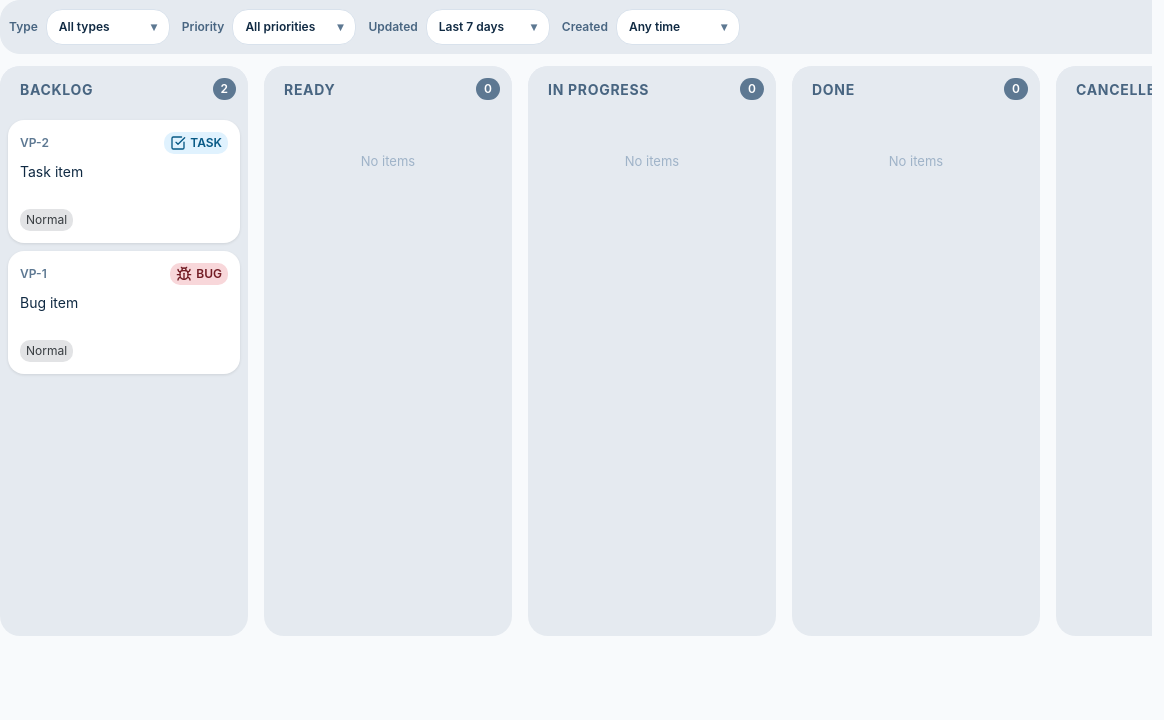
Test: KanbanBoard › board filters › filters cards by type
Check: the text "Bug item" is shown, box top-left (20, 294), bottom-right (78, 311)
Click the button with aria-label "Type:" at [108, 27], box top-left (46, 9), bottom-right (170, 45)
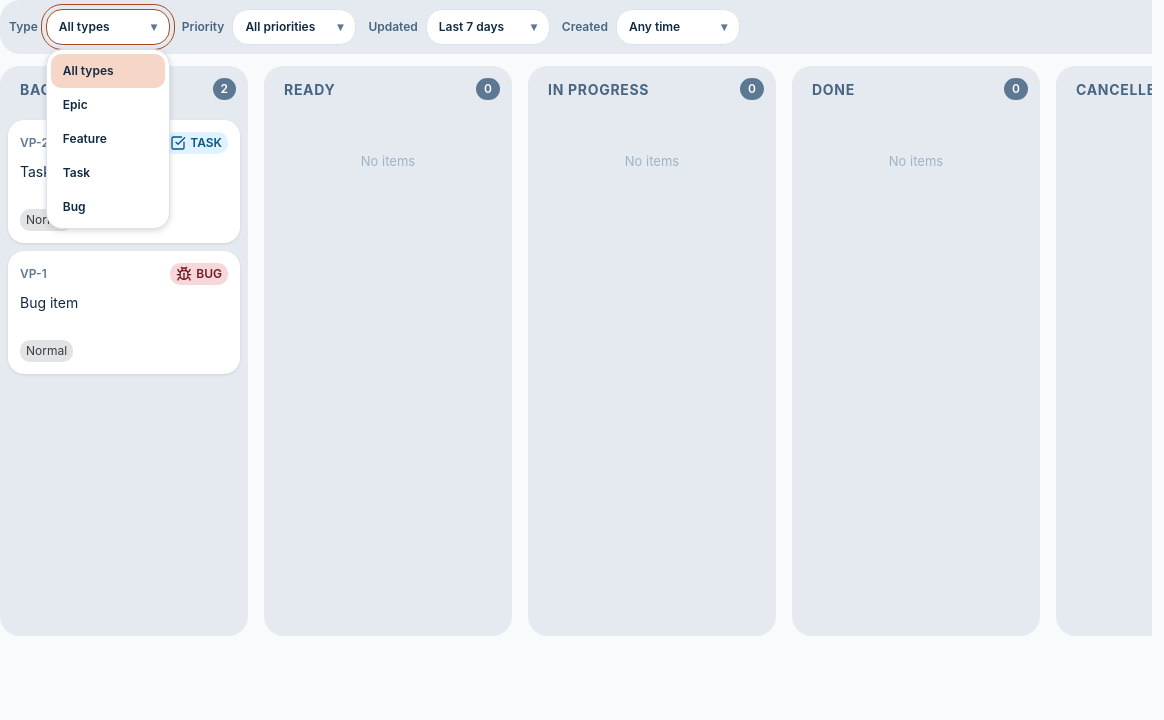
Click the option "Bug" at [108, 207], box top-left (51, 190), bottom-right (165, 224)
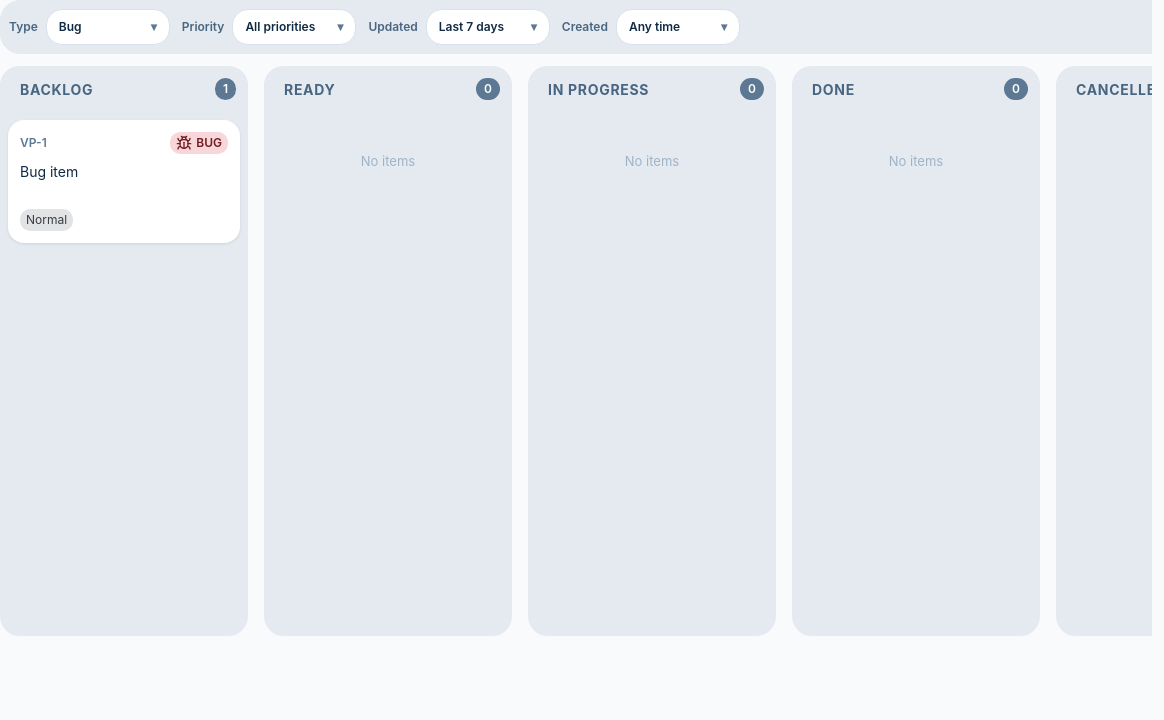
Check: the text "Bug item" is shown, box top-left (20, 163), bottom-right (78, 180)
Check: the button "Task item" is gone
